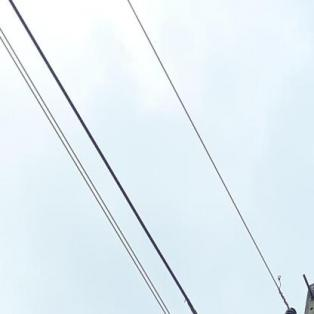Poste: (253, 274, 314, 314)
